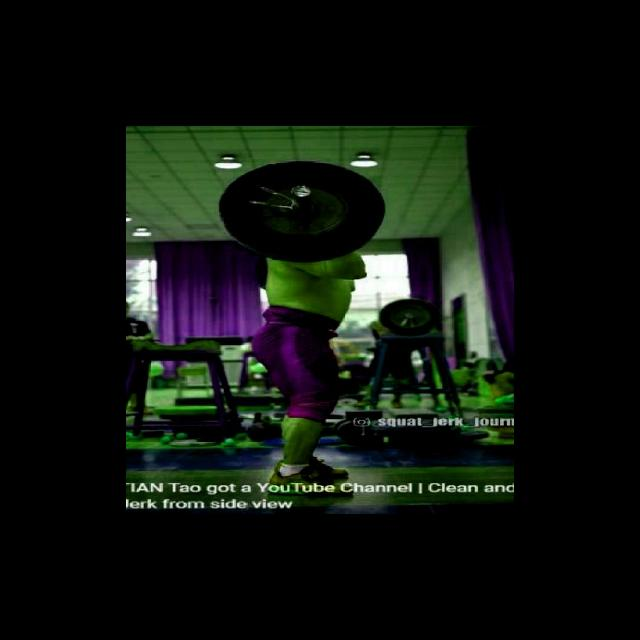barbell: (216, 159, 390, 266)
